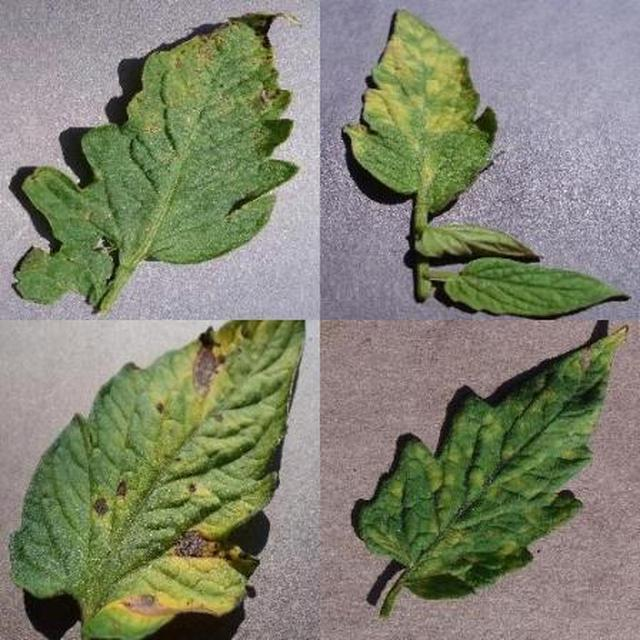Septoria Leaf: (217, 88, 640, 640)
